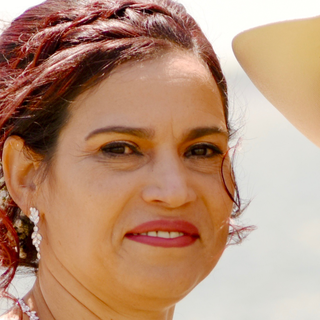eye: (93, 138, 144, 163), (180, 138, 225, 163)
